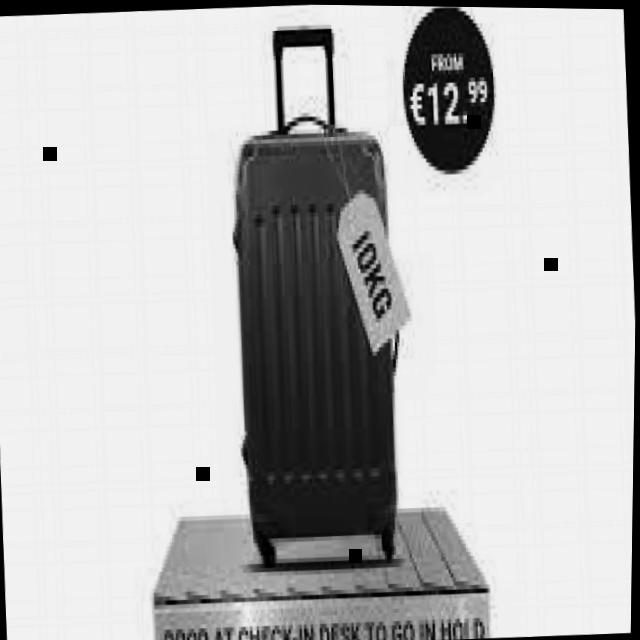luggage: (222, 107, 418, 552)
